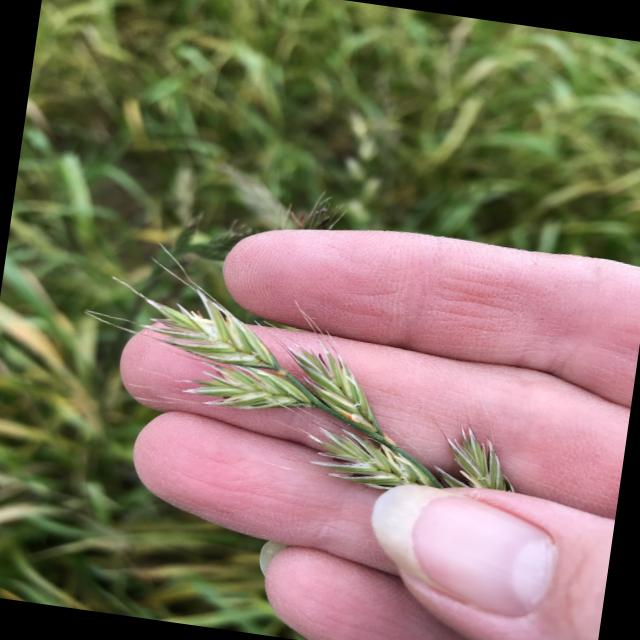Lolium: (66, 232, 546, 512)
